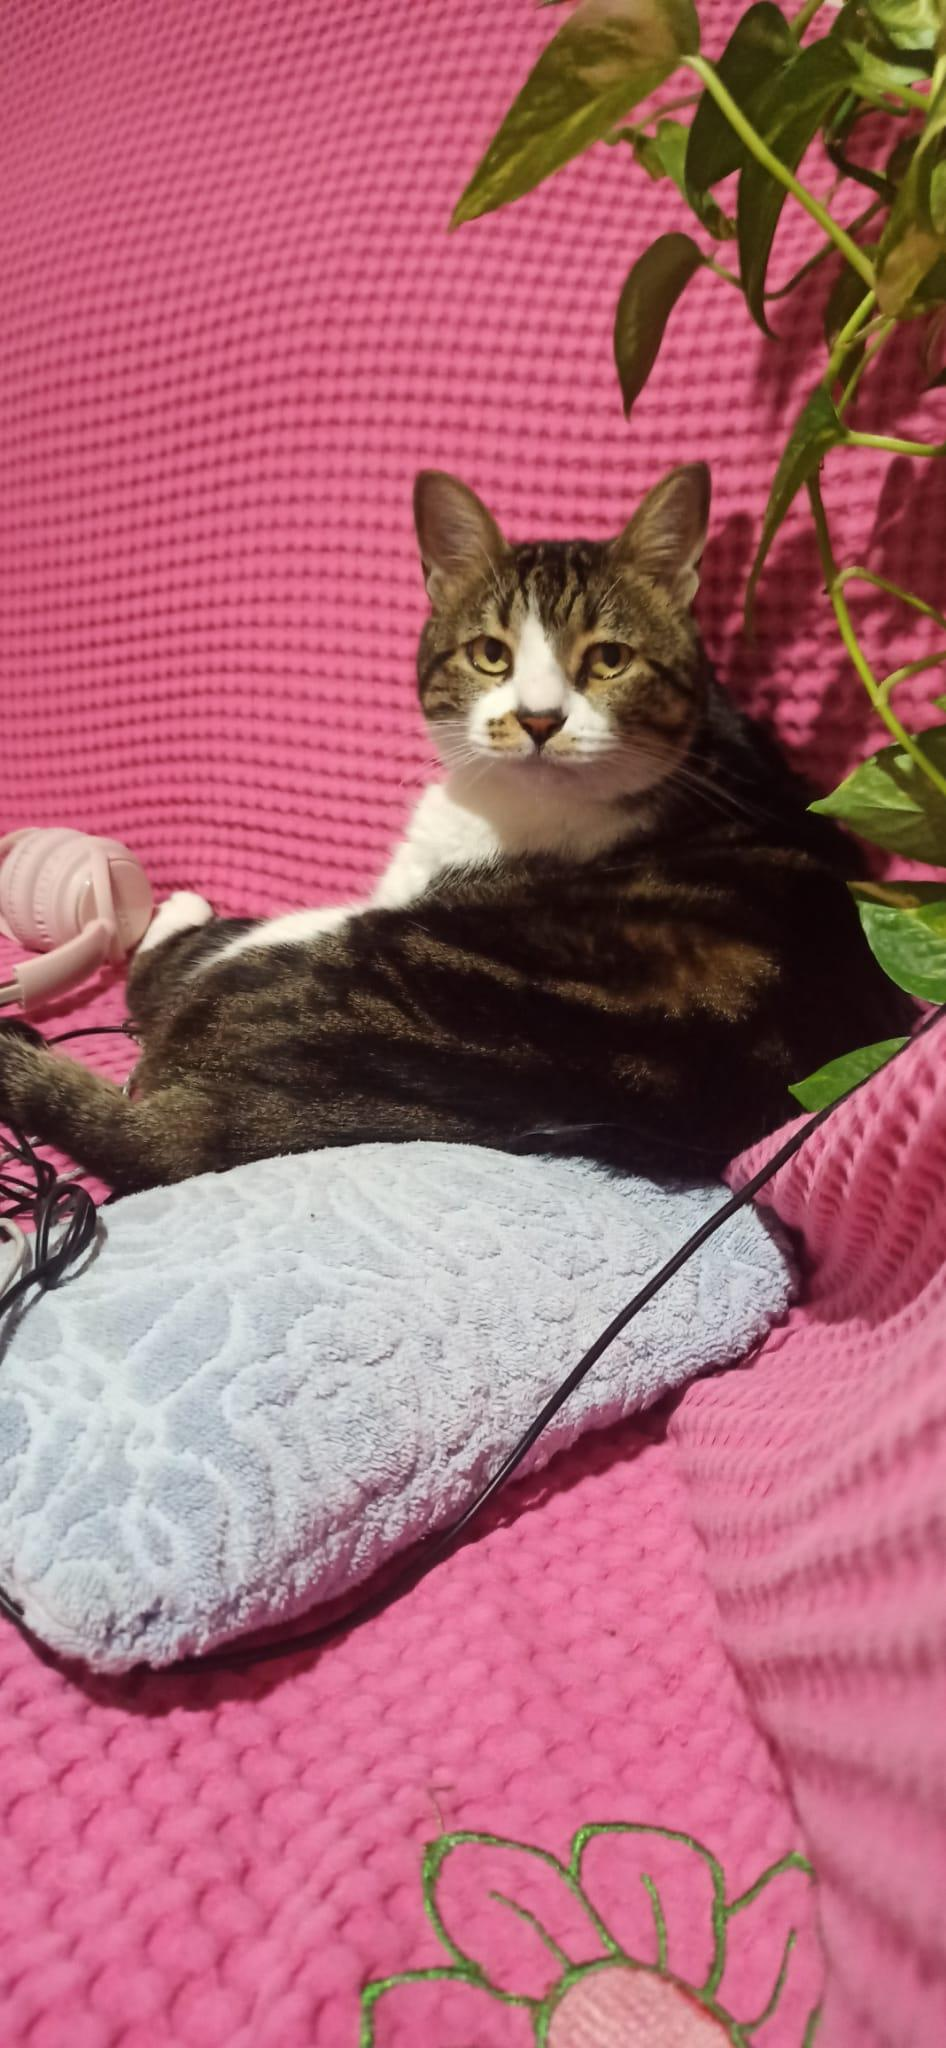kedo: (7, 477, 875, 1176)
